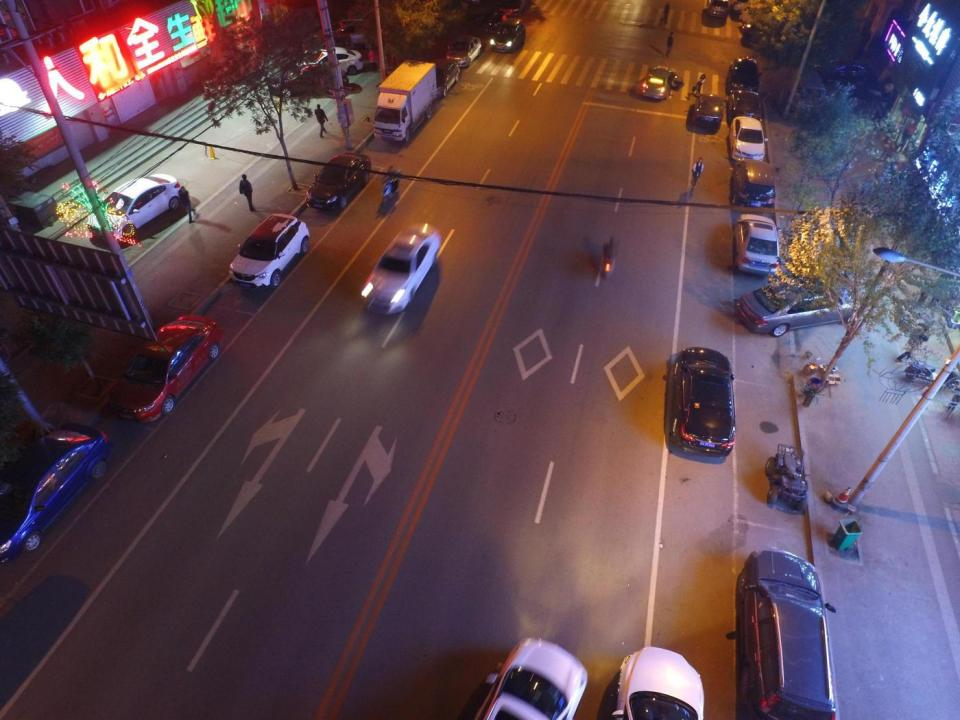car: (733, 548, 835, 718), (0, 424, 110, 565), (111, 310, 225, 424), (472, 638, 588, 720), (733, 275, 863, 339), (359, 221, 444, 316), (671, 348, 735, 457), (612, 647, 706, 718), (88, 174, 182, 244), (229, 212, 311, 287), (302, 147, 369, 216), (736, 214, 778, 279), (272, 65, 349, 98), (734, 156, 775, 210), (740, 15, 812, 43), (318, 22, 382, 51), (302, 47, 362, 74), (814, 57, 880, 80), (732, 116, 765, 162), (638, 67, 678, 102), (728, 87, 765, 124), (433, 59, 460, 104), (730, 56, 762, 93), (492, 19, 526, 50), (448, 34, 480, 66), (695, 92, 722, 129), (706, 0, 732, 19), (501, 0, 528, 18), (486, 10, 505, 33)
truck: (374, 56, 440, 146)
van: (792, 60, 827, 116)
